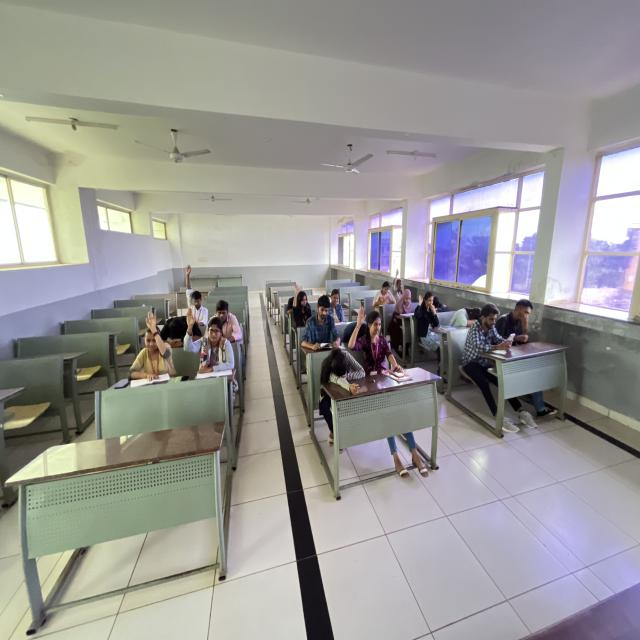Hand Rising: (180, 300, 232, 375), (124, 306, 176, 378), (346, 302, 394, 362), (181, 258, 213, 327), (289, 278, 314, 329)
Reading: (296, 290, 349, 358)
Sleeping: (315, 338, 367, 418), (155, 308, 207, 354), (444, 301, 486, 336)
Using Phone: (464, 298, 514, 372)
